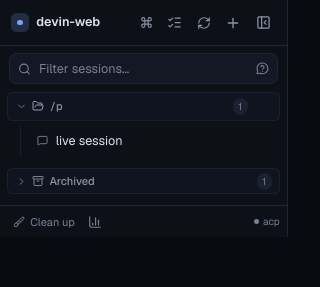
it: SessionSidebar › keeps archived sessions out of the groups until the Archived section opens
Expected: the link "live session" is shown, [56, 132, 122, 149]
Expected: the text "parked session" is not shown
Click the text "Archived": click(72, 181) [49, 174, 95, 188]
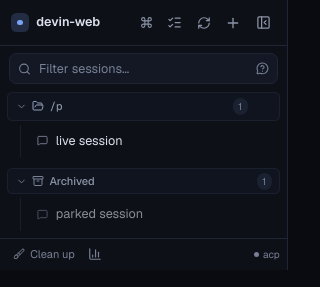
Expected: the link "parked session" is shown, [56, 205, 143, 222]
